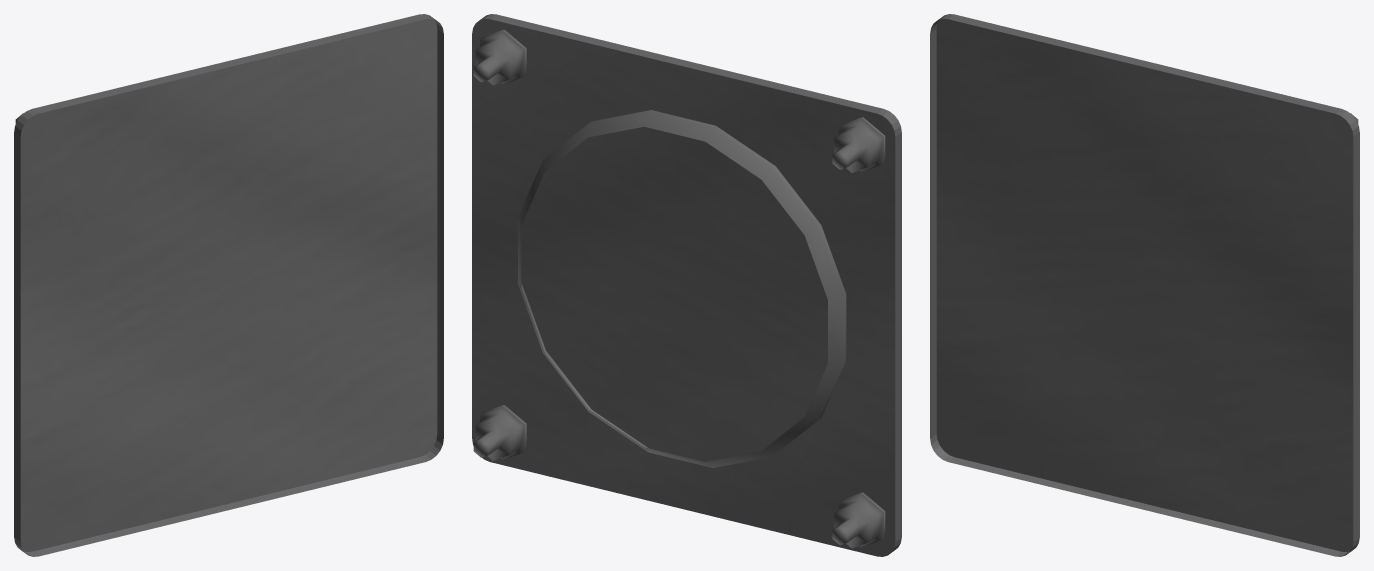
Rendered from polebase_large_slim.obj.
3 renders of one model, left to right at view 1: azimuth 30°, elevation 25°; view 2: azimuth 150°, elevation 25°; view 3: azimuth 330°, elevation 25°, orthographic.
Parts seen in each view (by area): view 1: polebase_large_slim; view 2: polebase_large_slim; view 3: polebase_large_slim.
Part boxes in pixels (x1=…): polebase_large_slim: x1=14, y1=14, x2=443, y2=556; polebase_large_slim: x1=472, y1=14, x2=901, y2=556; polebase_large_slim: x1=930, y1=14, x2=1359, y2=556.
Bounding box in the file's own units: 1.03 × 1.03 × 0.1244.
